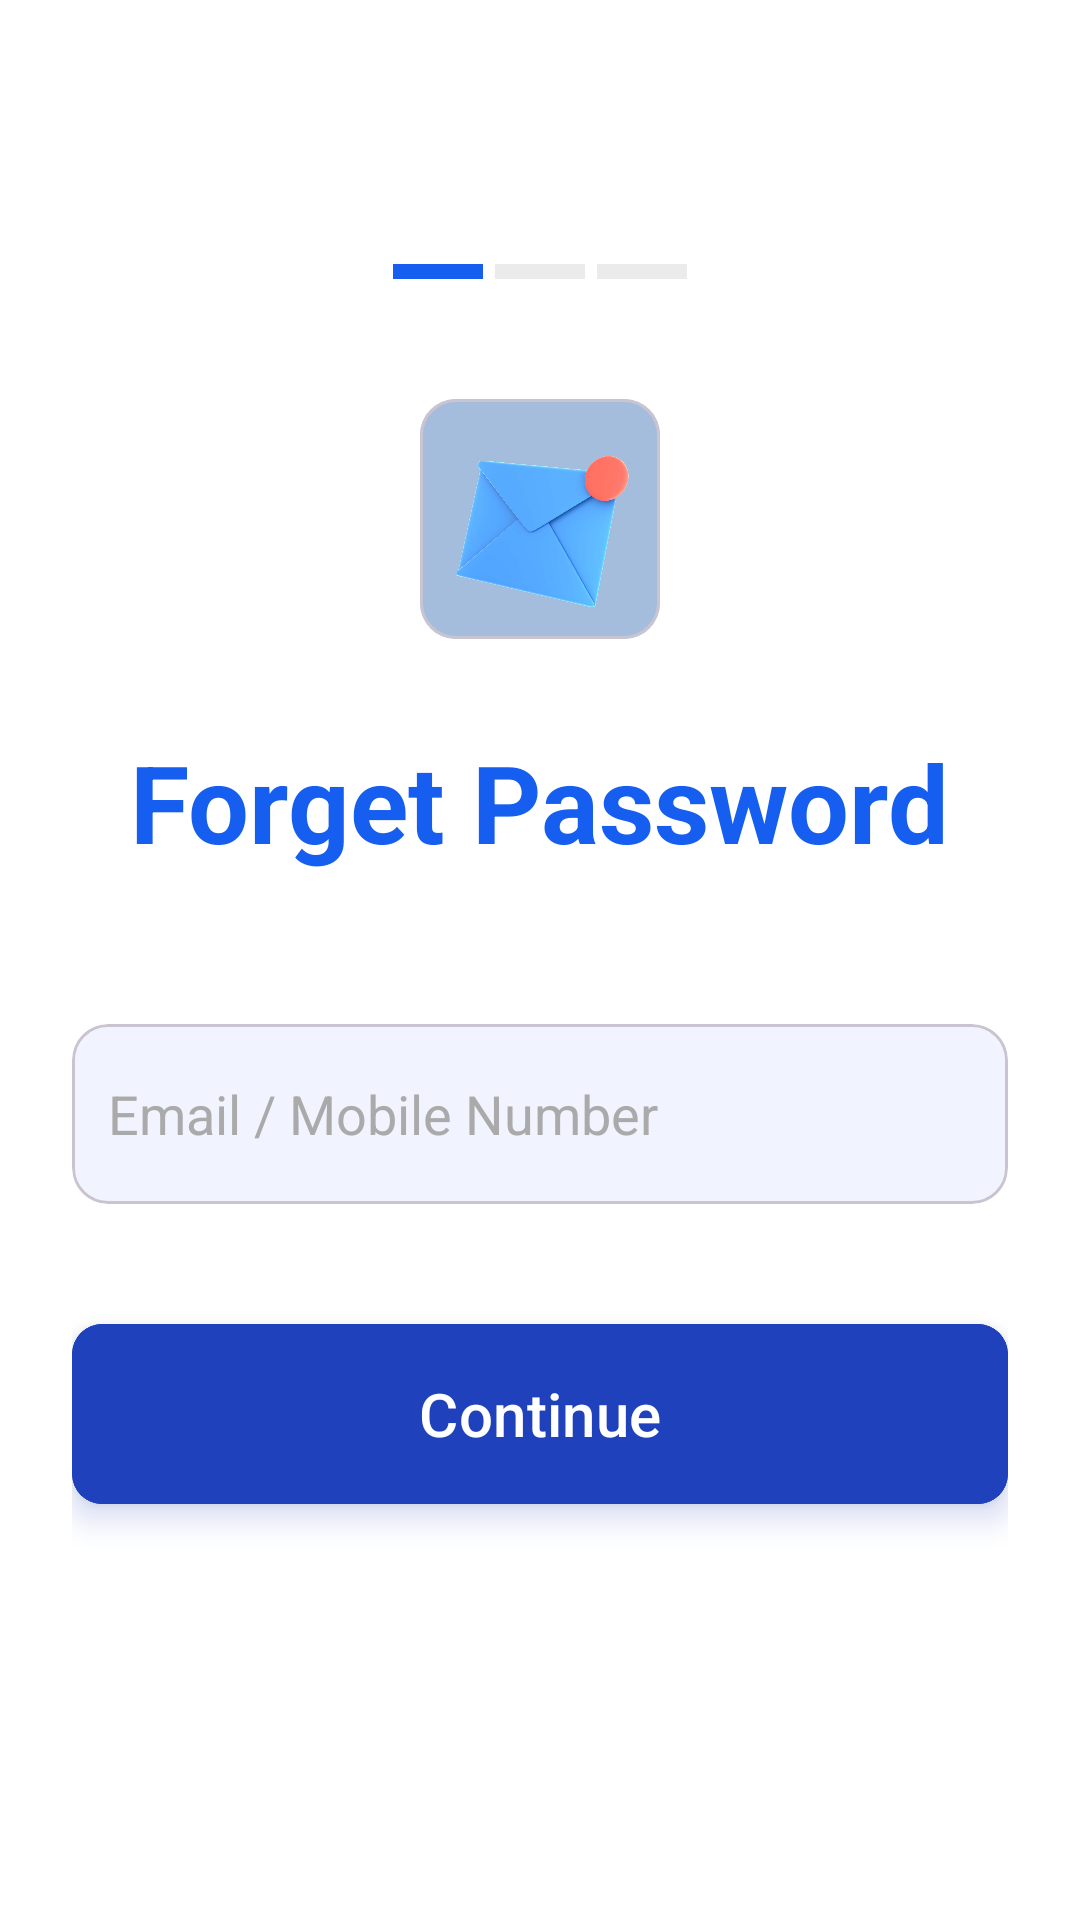

Locate icon controls on the screen. Image size 1080px×1920px, boxes as BBox(x1, y1, x2, y2).
Email: BBox(420, 399, 660, 639)
